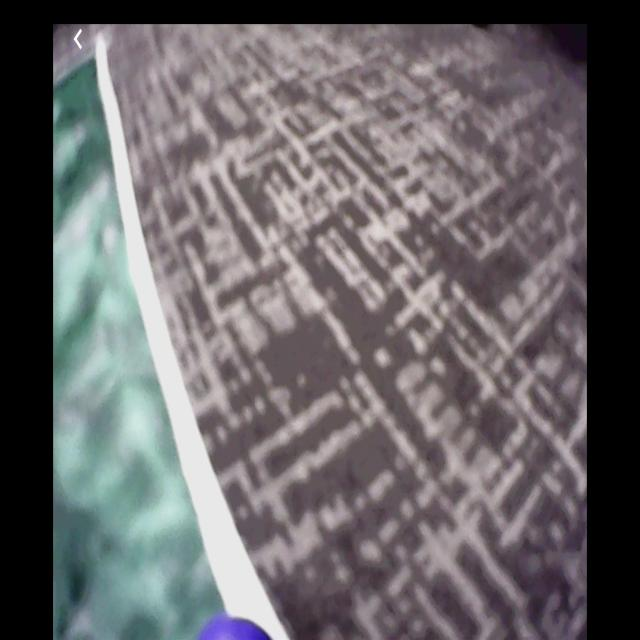ball: (199, 613, 276, 640)
